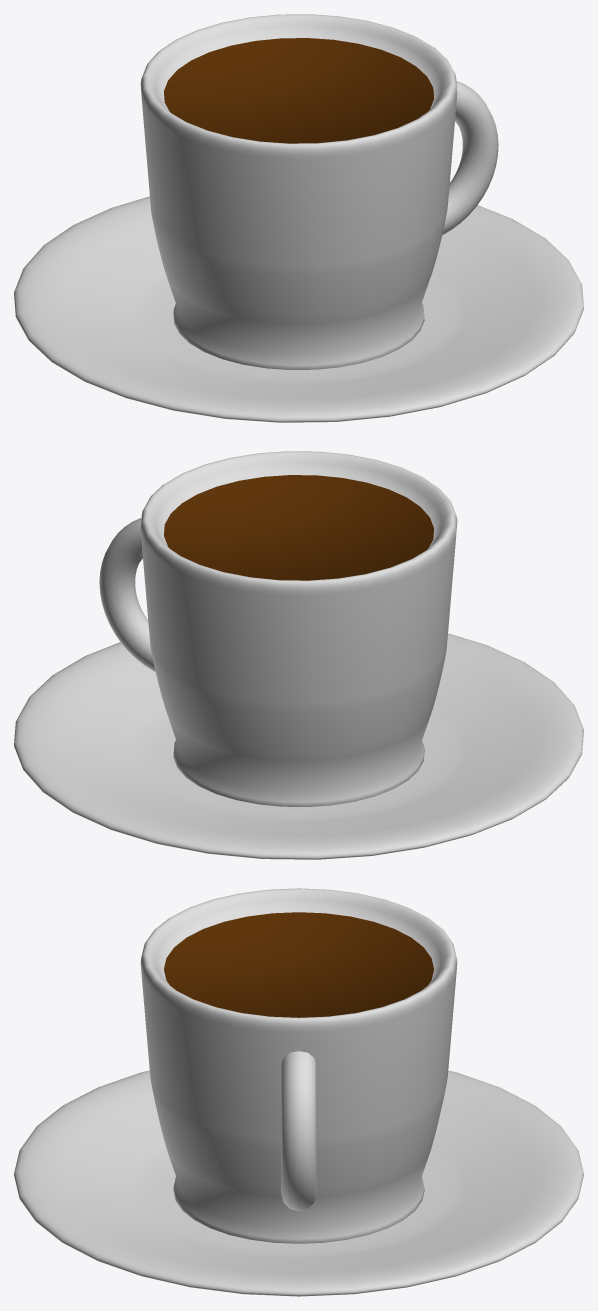
File: COFFE.fbx
The picture shows the model from 3 angles, top to bottom: view 1: azimuth 30°, elevation 25°; view 2: azimuth 150°, elevation 25°; view 3: azimuth 270°, elevation 25°; orthographic projection.
Visible parts, largest first — view 1: Cylinder.007; view 2: Cylinder.007; view 3: Cylinder.007.
Boxes of the visible parts, x1=… form: Cylinder.007: x1=14, y1=14, x2=583, y2=422; Cylinder.007: x1=14, y1=451, x2=583, y2=859; Cylinder.007: x1=14, y1=888, x2=583, y2=1296.
Size of the model in its own units: 364 by 178 by 364.
